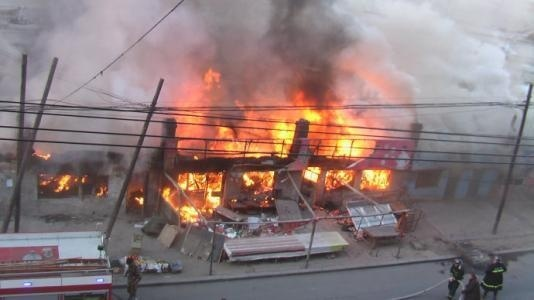fire: (156, 82, 395, 215), (34, 151, 105, 195)
